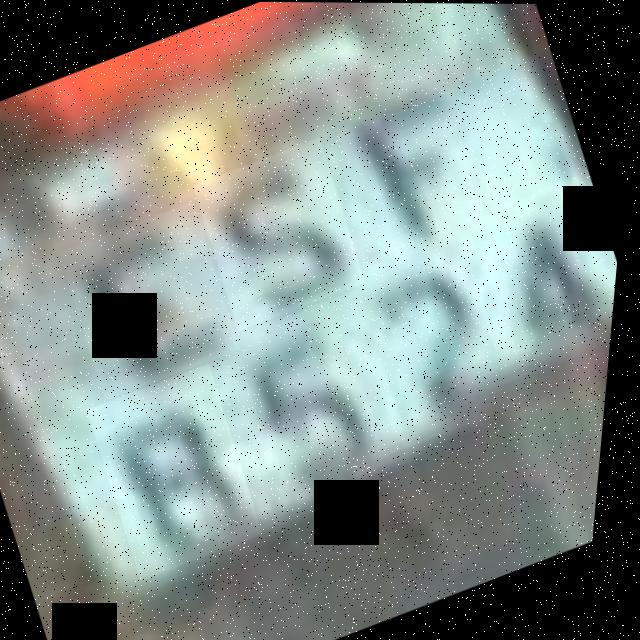2: (333, 227, 554, 450)
3: (391, 366, 611, 595)
4: (447, 174, 628, 382)
5: (195, 287, 433, 520)
B: (82, 362, 284, 581)
E: (53, 200, 257, 402)
F: (323, 64, 505, 267)
S: (186, 136, 381, 331)
